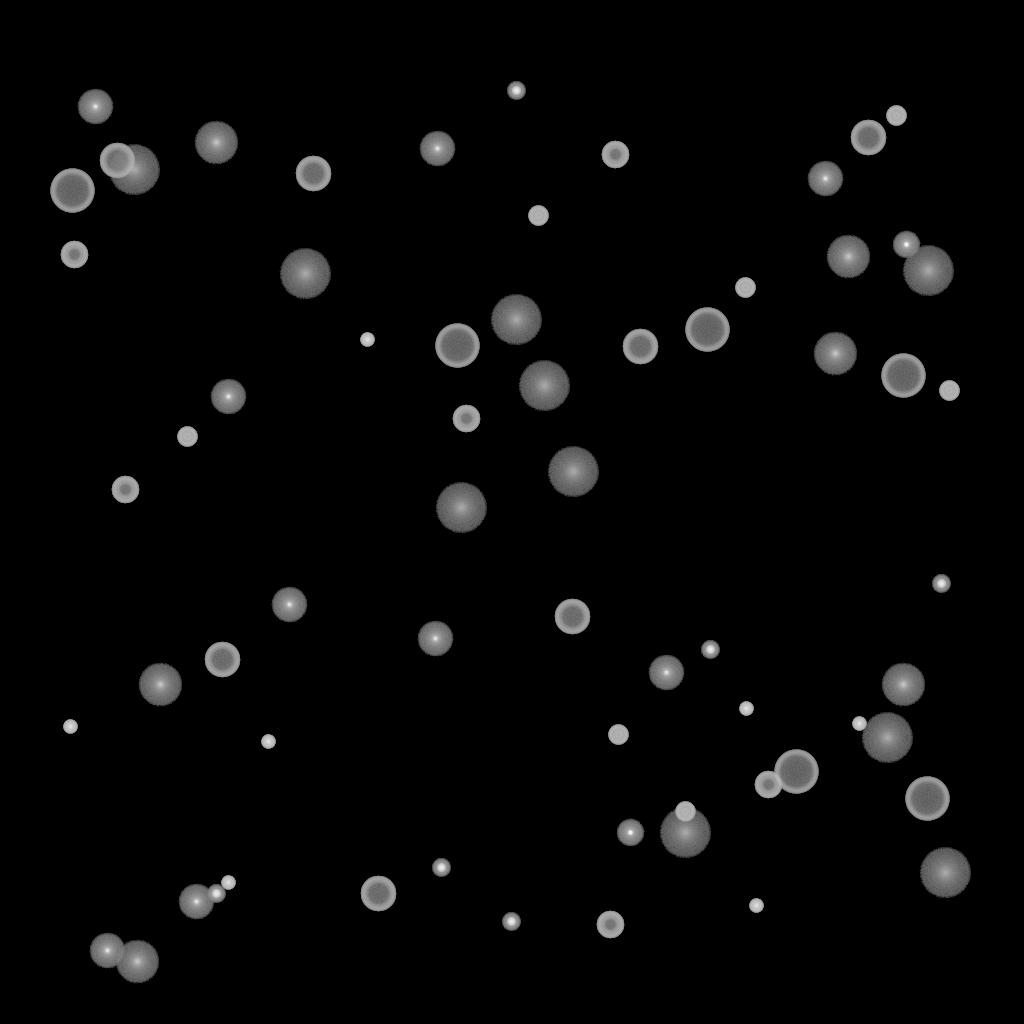depth:-10: (892, 231, 920, 259), (616, 819, 644, 847)
depth:-20: (507, 82, 525, 100), (207, 885, 225, 903), (701, 641, 719, 659), (432, 859, 450, 877), (502, 913, 520, 931), (932, 575, 950, 593)
depth:-30: (261, 735, 275, 749), (221, 876, 235, 890), (360, 333, 374, 347), (63, 720, 77, 734), (852, 717, 866, 731), (739, 702, 753, 716), (749, 899, 763, 913)
depth:-40: (735, 278, 755, 298), (675, 802, 695, 822), (528, 206, 548, 226), (886, 106, 906, 126), (608, 725, 628, 745), (939, 381, 959, 401), (177, 427, 197, 447)
depth:-50: (754, 771, 782, 799), (601, 141, 629, 169), (452, 405, 480, 433), (596, 911, 624, 939), (111, 476, 139, 504), (60, 241, 88, 269)
depth:-60: (99, 143, 135, 179), (554, 599, 590, 635), (622, 329, 658, 365), (295, 156, 331, 192), (204, 642, 240, 678), (850, 120, 886, 156), (360, 876, 396, 912)
depth:-70: (50, 169, 94, 213), (905, 777, 949, 821), (881, 354, 925, 398), (685, 308, 729, 352), (435, 324, 479, 368), (774, 750, 818, 794)
depth:0: (271, 587, 307, 623), (417, 621, 453, 657), (419, 131, 455, 167), (89, 933, 125, 969), (210, 379, 246, 415), (807, 161, 843, 197), (648, 655, 684, 691), (77, 89, 113, 125), (178, 884, 214, 920)
depth:10: (138, 663, 182, 707), (881, 663, 925, 707), (826, 235, 870, 279), (813, 332, 857, 376), (194, 121, 238, 165), (115, 940, 159, 984)
depth:20: (279, 249, 331, 299), (108, 145, 160, 195), (902, 246, 954, 296), (659, 808, 711, 858), (861, 713, 913, 763), (490, 295, 542, 345), (435, 483, 487, 533), (547, 447, 599, 497), (518, 361, 570, 411), (919, 848, 971, 898)
